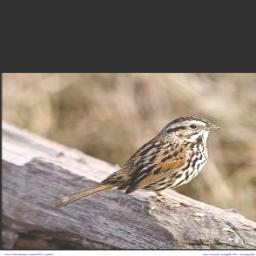Sparrow: (52, 115, 223, 211)
